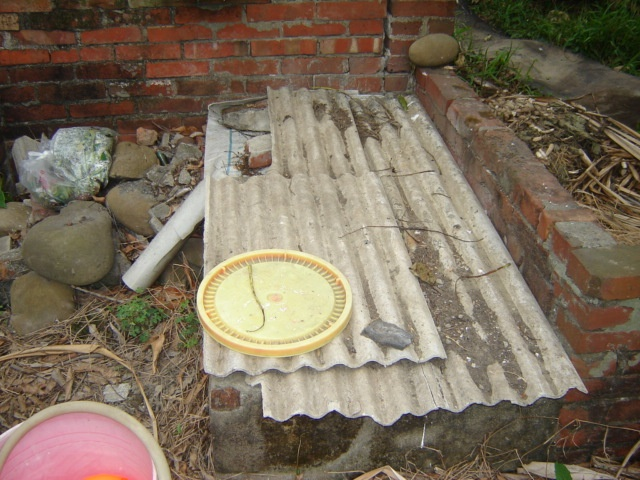plastic_bag: (24, 128, 113, 203)
plate: (196, 247, 354, 359)
